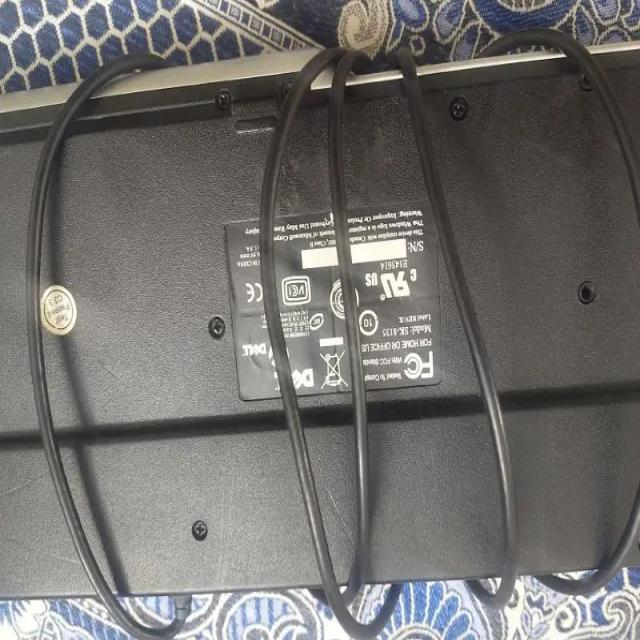electronic: (4, 32, 638, 602)
